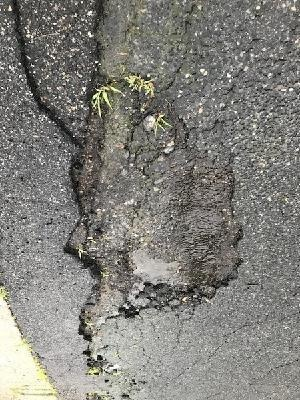pothole: (59, 71, 247, 370)
